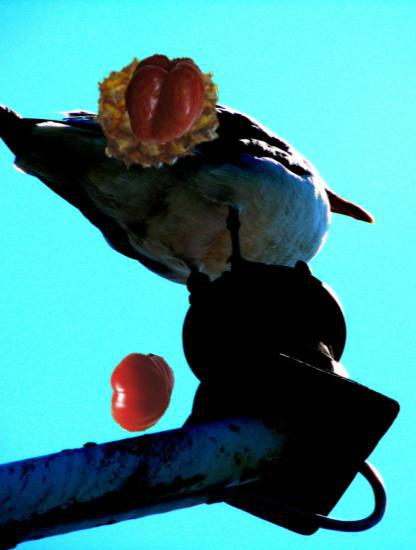Pepper: (120, 53, 211, 144)
Pineapple: (93, 48, 221, 176)
Tomato: (99, 352, 180, 433)
